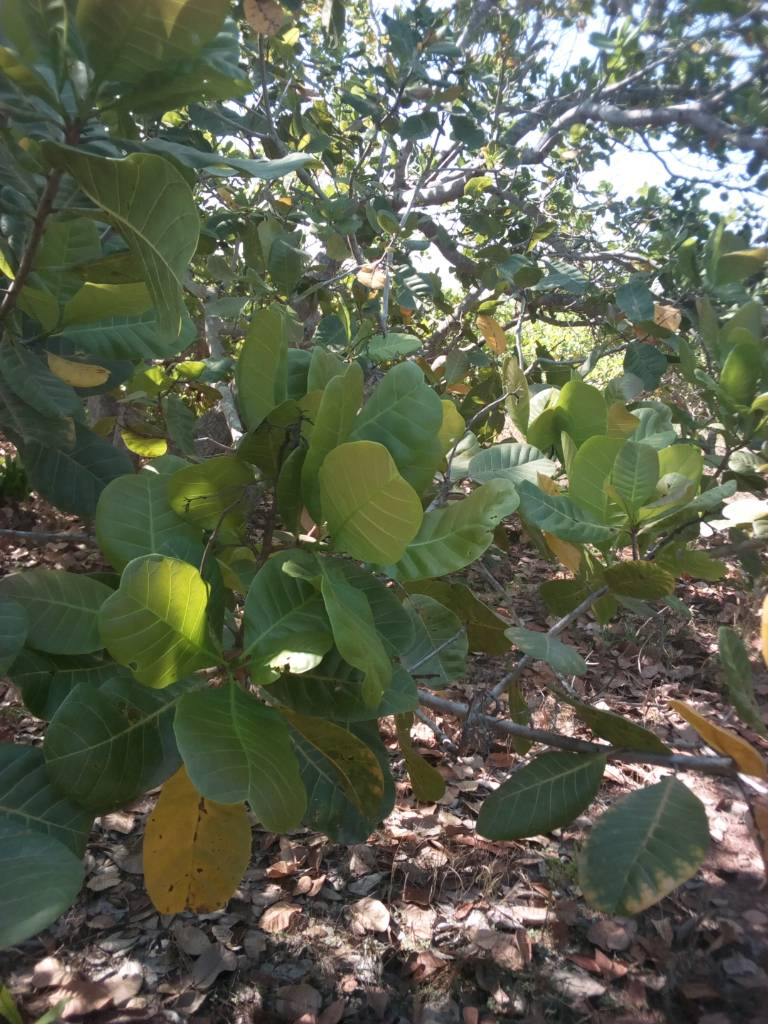Anthracnose: (140, 775, 250, 919)
